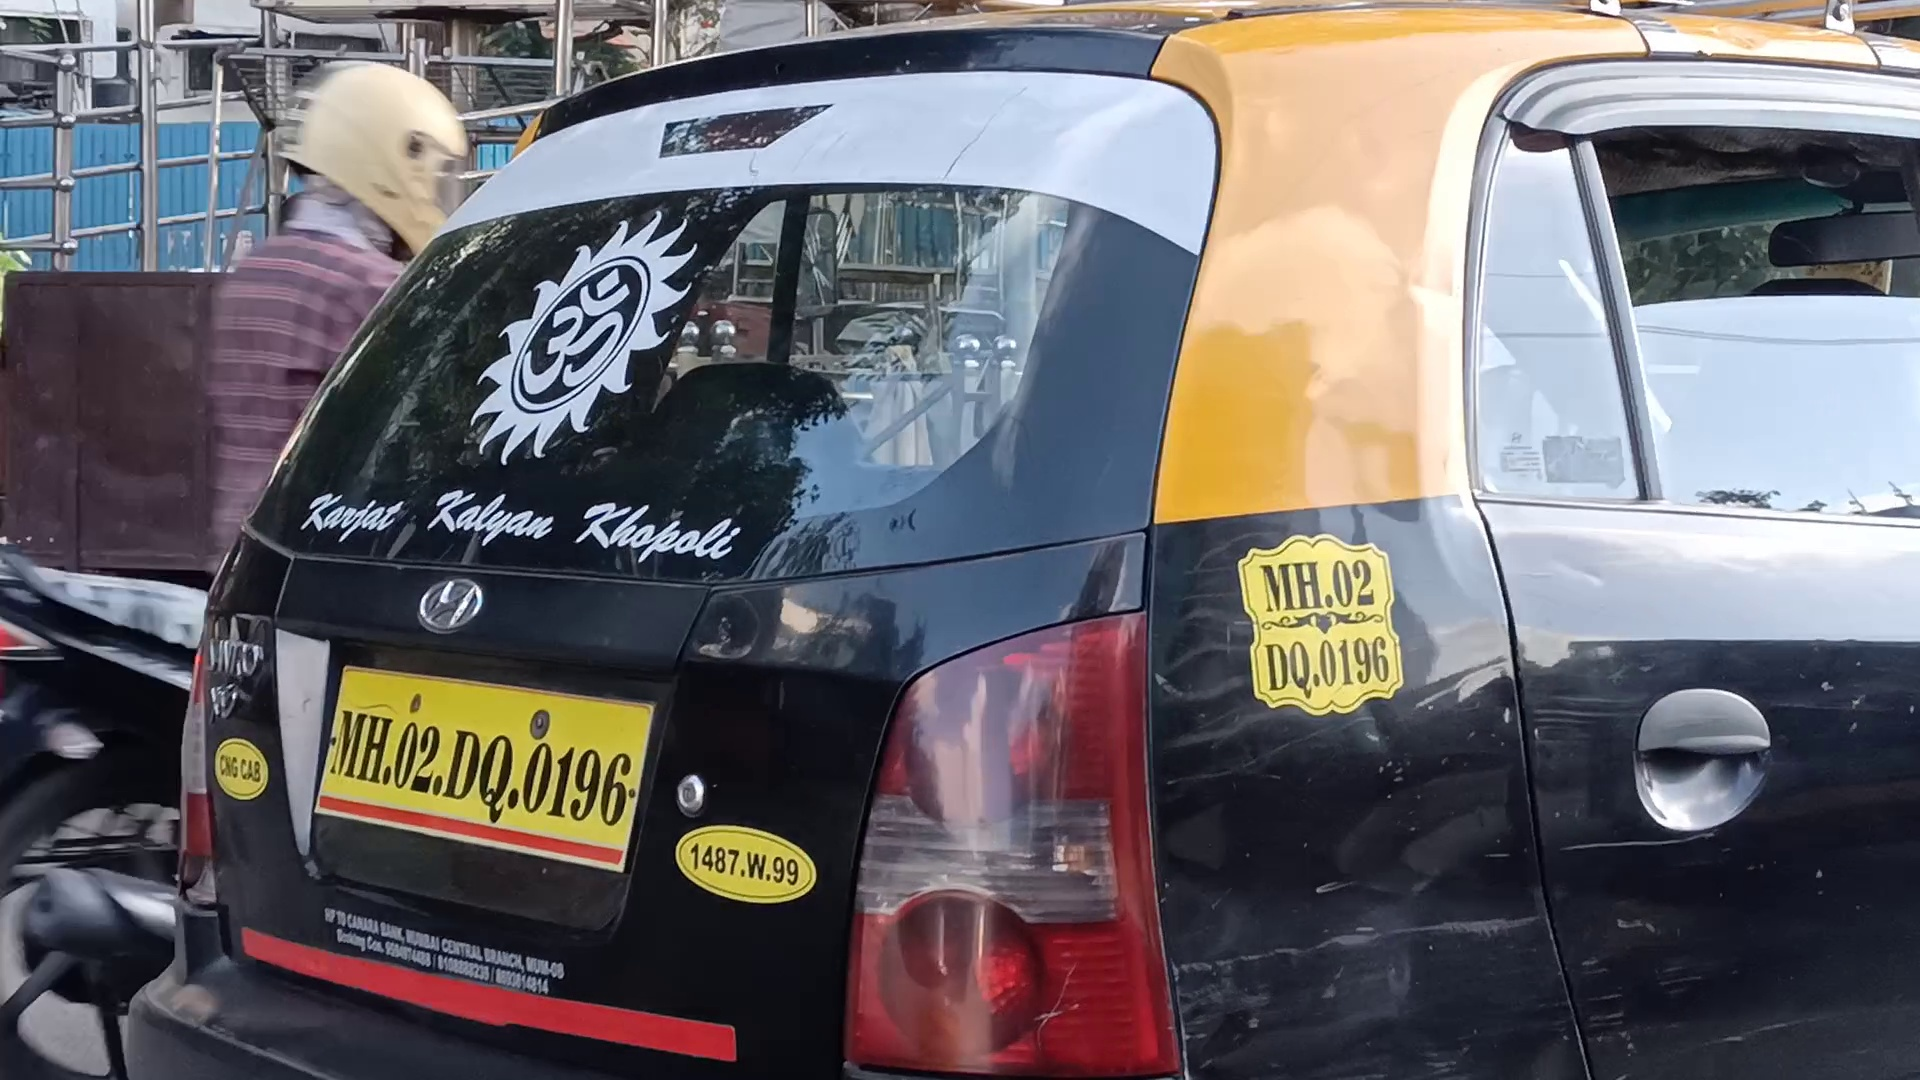MH02DQ0196: (310, 664, 655, 873)
